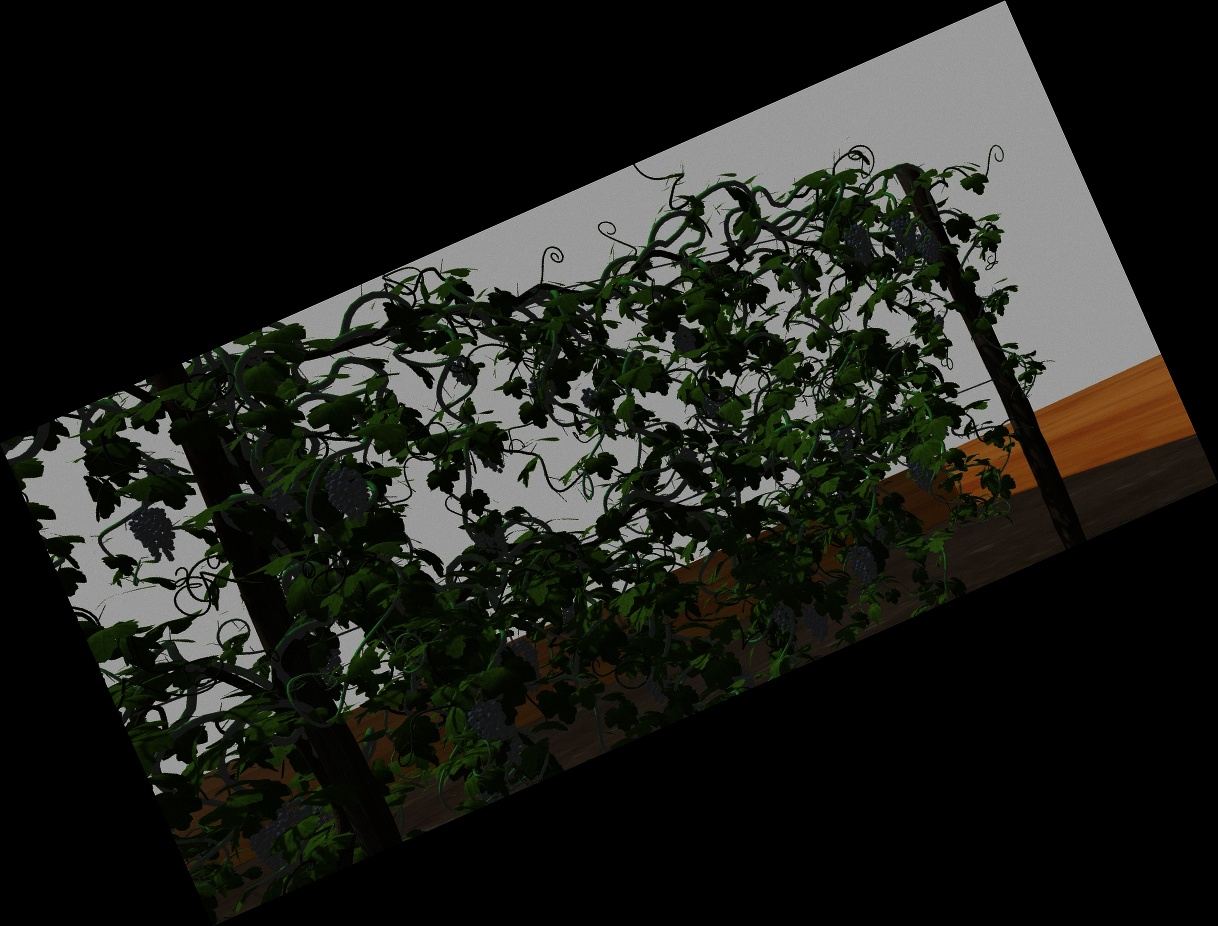grape: (477, 699, 519, 767), (135, 507, 176, 563), (329, 467, 368, 521), (511, 639, 544, 691), (253, 828, 284, 873), (479, 521, 507, 560), (274, 801, 317, 826), (848, 224, 872, 265), (851, 544, 875, 585), (805, 600, 828, 642), (673, 326, 699, 357), (273, 485, 302, 512), (918, 229, 941, 263), (893, 212, 916, 246), (910, 456, 933, 490), (774, 605, 796, 633), (451, 364, 474, 387), (579, 386, 599, 405)
